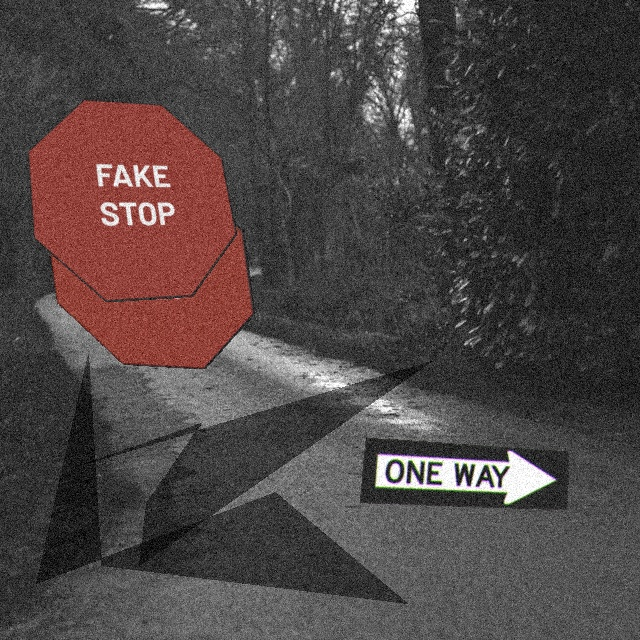FAKE_STOP: (45, 164, 255, 369), (27, 99, 237, 302)
ONE_WAY_ right: (359, 437, 569, 510)
